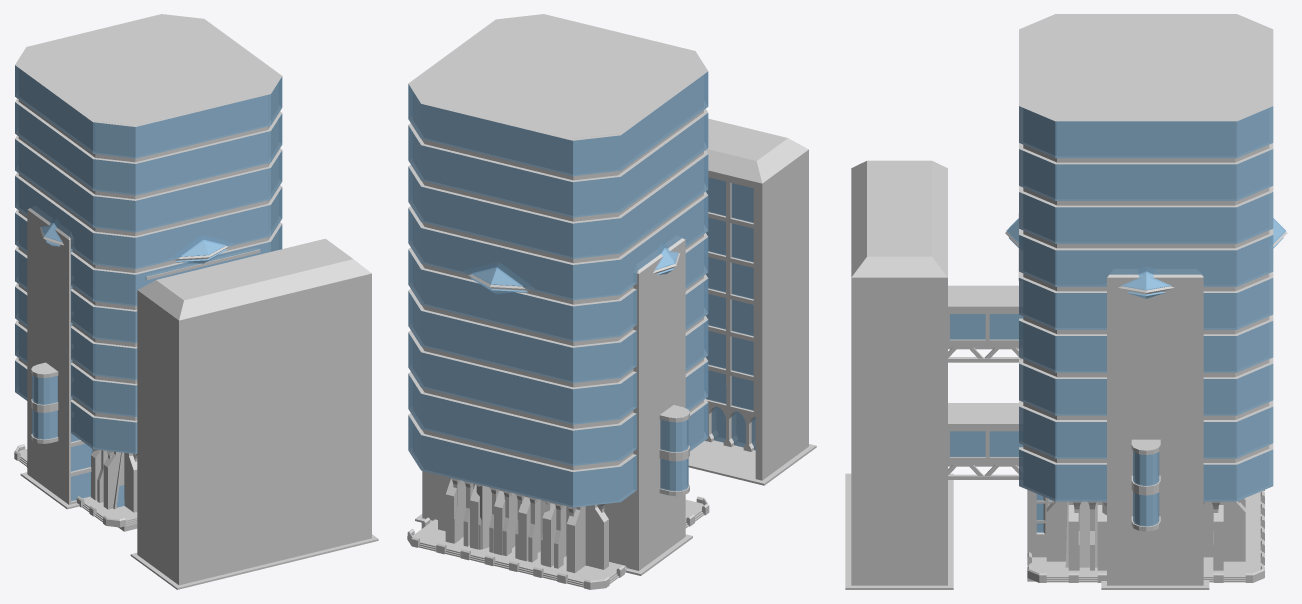
Rendered from SquareOffices.fbx.
The picture shows the model from 3 angles, left to right: view 1: azimuth 30°, elevation 25°; view 2: azimuth 150°, elevation 25°; view 3: azimuth 270°, elevation 25°; orthographic projection. The views are drawn at different scales.
Parts seen in each view (by area): view 1: SquareOffice3, SquareOffice2, SquareOffice5, SquareOffice6, SquareOffice8; view 2: SquareOffice2, SquareOffice3, SquareOffice5, SquareOffice6; view 3: SquareOffice2, SquareOffice3, SquareOffice5, SquareOffice6, SquareOffice4, SquareOffice1, SquareOffice8.
Part boxes in pixels (left/top/right/bottom): SquareOffice3: left=20, top=207, right=378, bottom=589; SquareOffice2: left=14, top=14, right=282, bottom=527; SquareOffice5: left=17, top=362, right=137, bottom=527; SquareOffice6: left=14, top=222, right=231, bottom=526; SquareOffice8: left=146, top=248, right=260, bottom=280; SquareOffice2: left=407, top=14, right=709, bottom=589; SquareOffice3: left=415, top=118, right=816, bottom=575; SquareOffice5: left=413, top=405, right=705, bottom=584; SquareOffice6: left=407, top=246, right=709, bottom=585; SquareOffice2: left=1019, top=14, right=1273, bottom=582; SquareOffice3: left=845, top=160, right=1209, bottom=589; SquareOffice5: left=1029, top=439, right=1264, bottom=580; SquareOffice6: left=1005, top=218, right=1287, bottom=582; SquareOffice4: left=1027, top=501, right=1097, bottom=581; SquareOffice1: left=1027, top=490, right=1052, bottom=557; SquareOffice8: left=1018, top=213, right=1049, bottom=557.
Bounding box in the file's own units: 4600 × 7701 × 6540.
